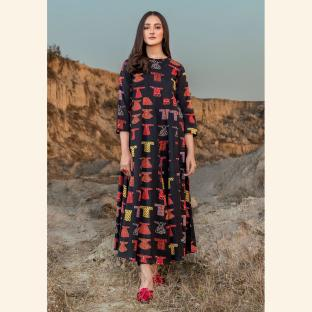Human: (114, 11, 197, 301)
